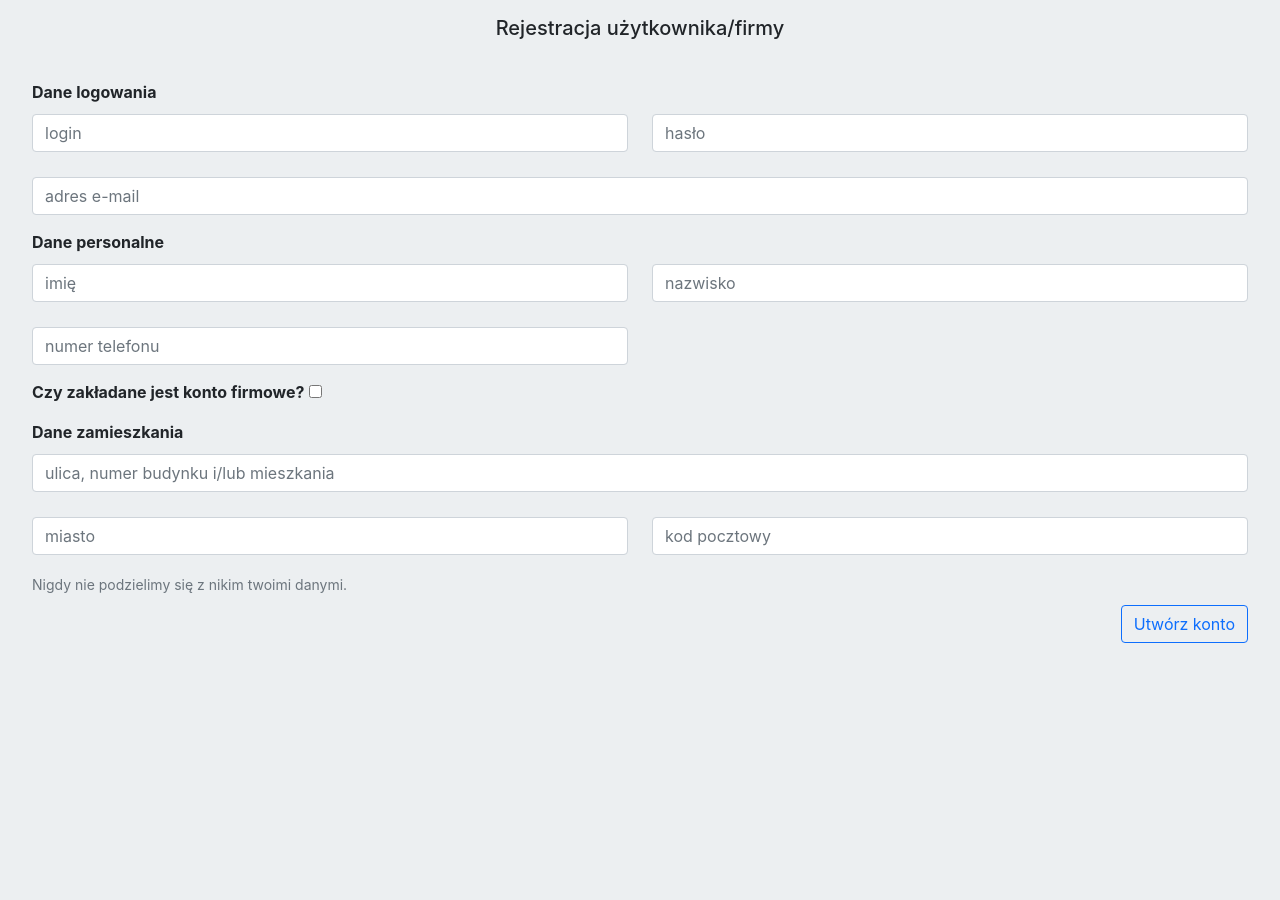
Test: SignUp sub-component tests › should show company fields after checking company account option
Click the checkbox labelled "Czy zakładane jest konto firmowe?" at (316, 392), box [309, 385, 322, 398]
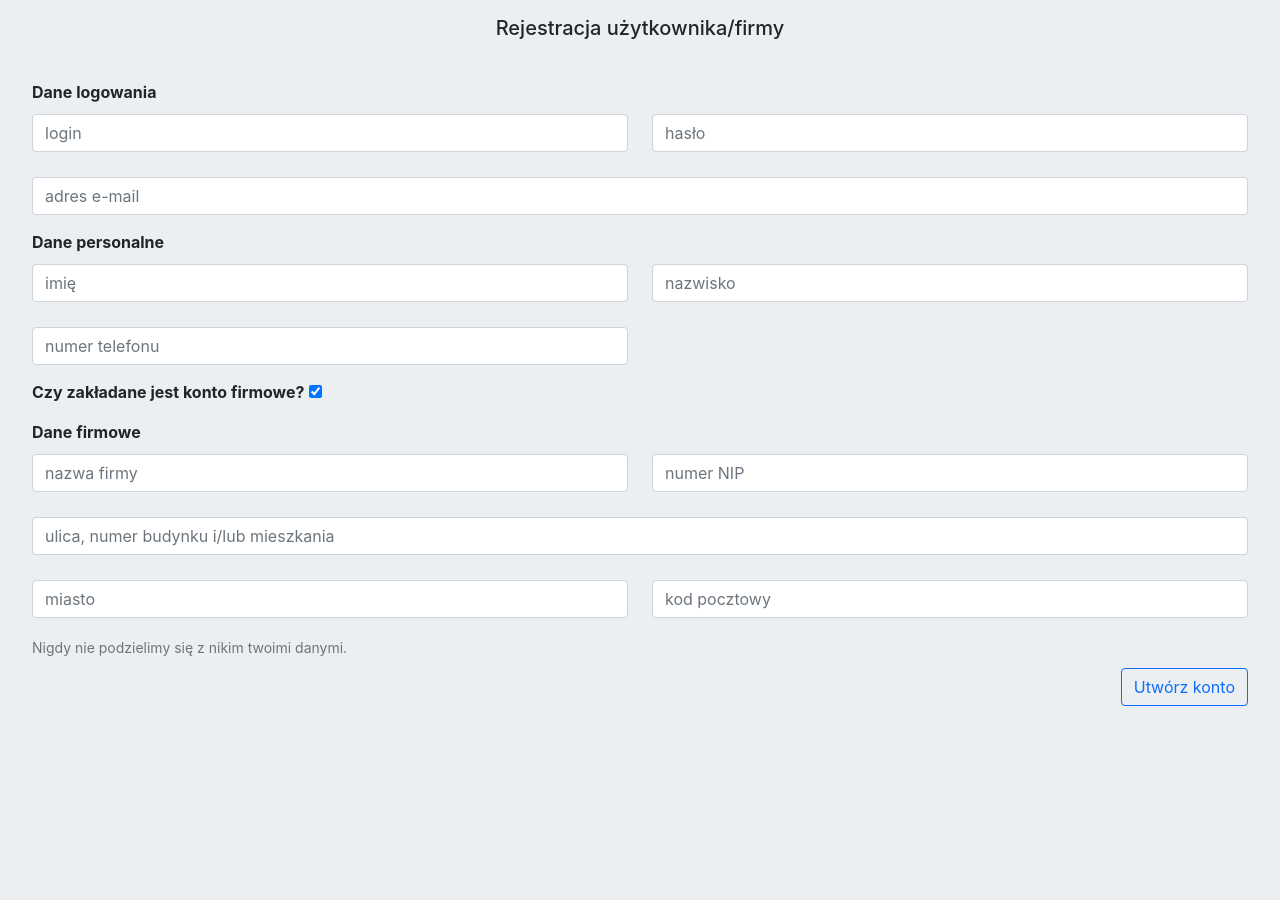
Expected: the checkbox labelled "Czy zakładane jest konto firmowe?" is checked, [309, 385, 322, 398]
Expected: the text "Dane firmowe" is shown, [32, 422, 141, 442]
